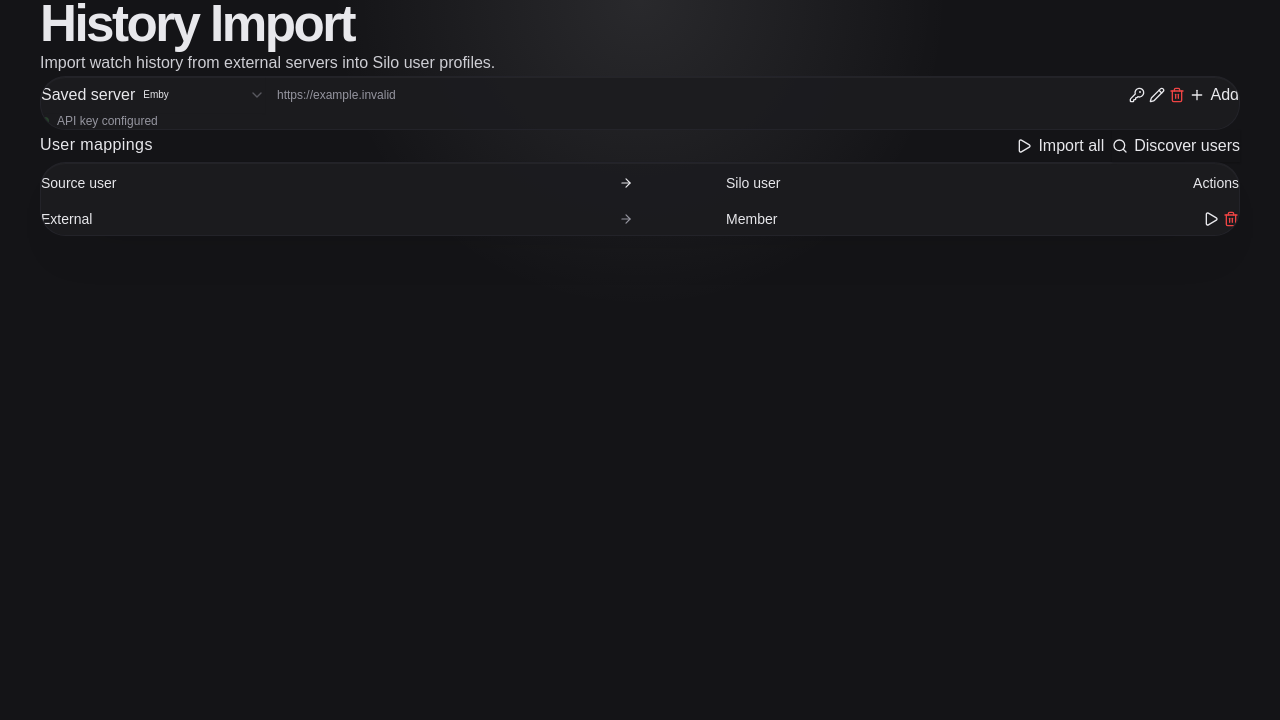
Test case: admin history import editors › keeps Remove mapping confirmation after412
The image size is (1280, 720).
Click the button titled "Remove mapping": (1231, 219) [1223, 203, 1239, 235]
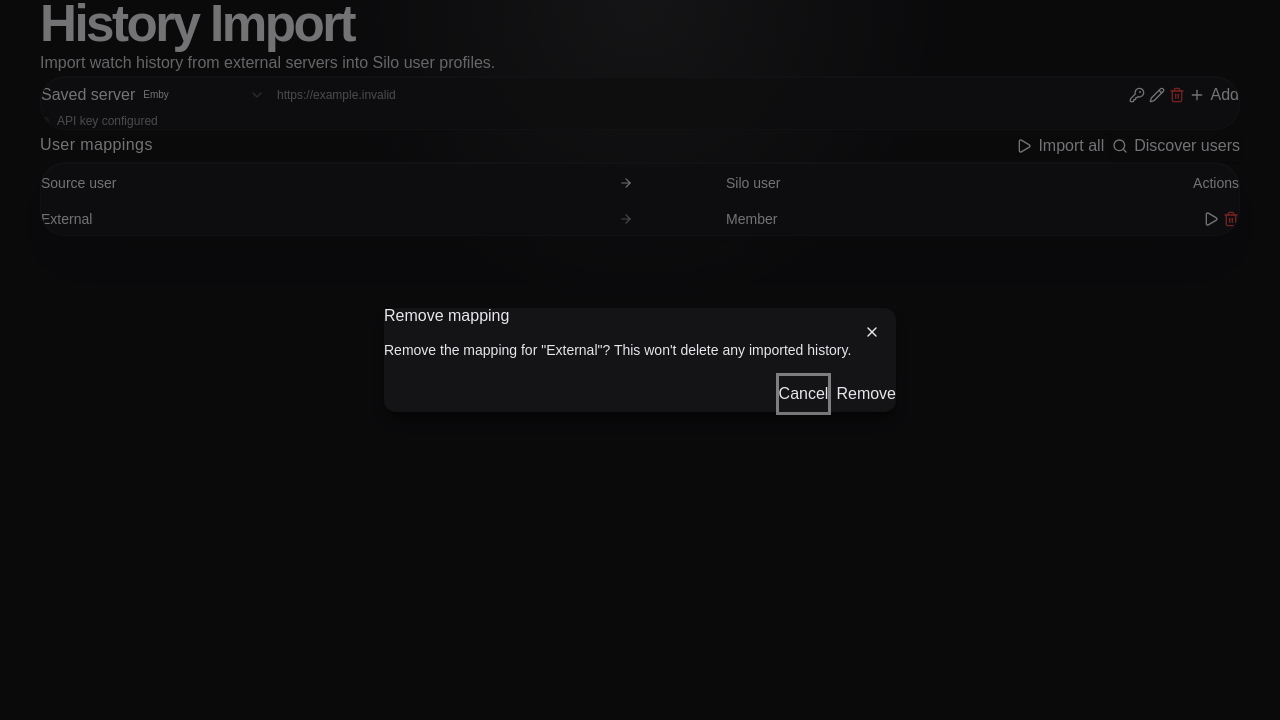
Click the button "Remove": (866, 394) [836, 376, 896, 412]
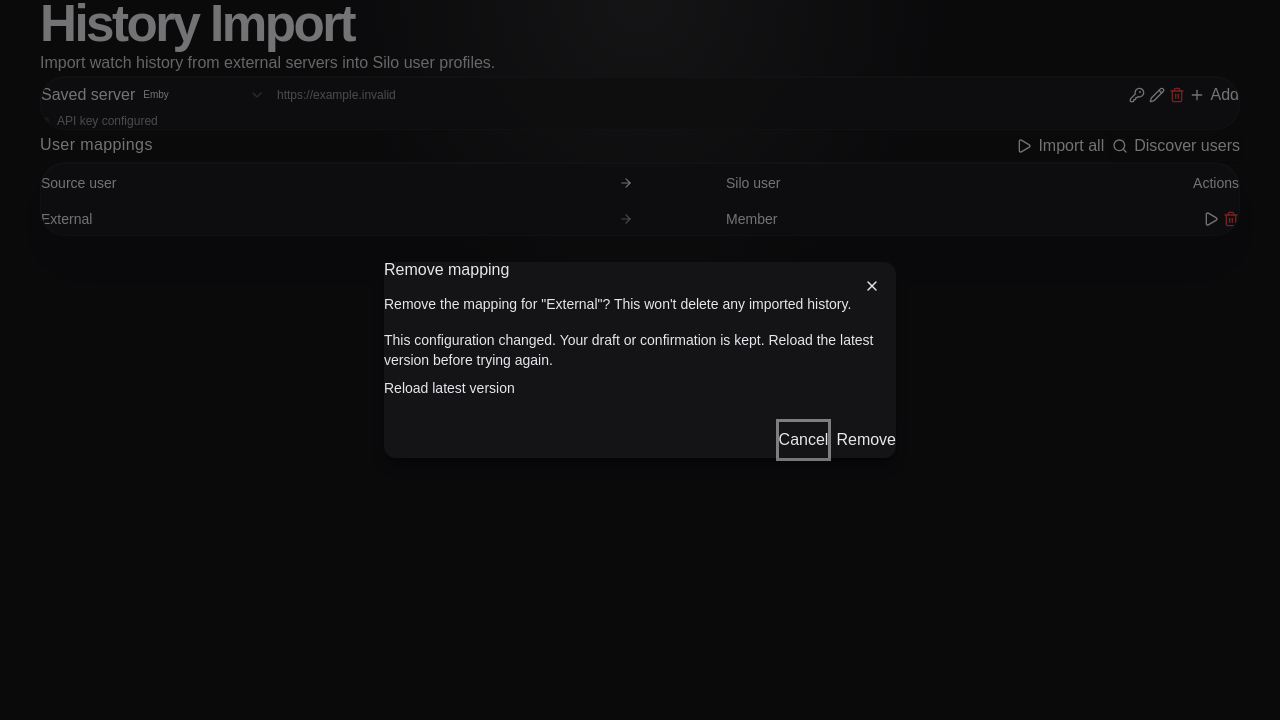
Check: the dialog is shown, box [384, 262, 896, 458]
Check: the message is shown, box [384, 330, 896, 406]
